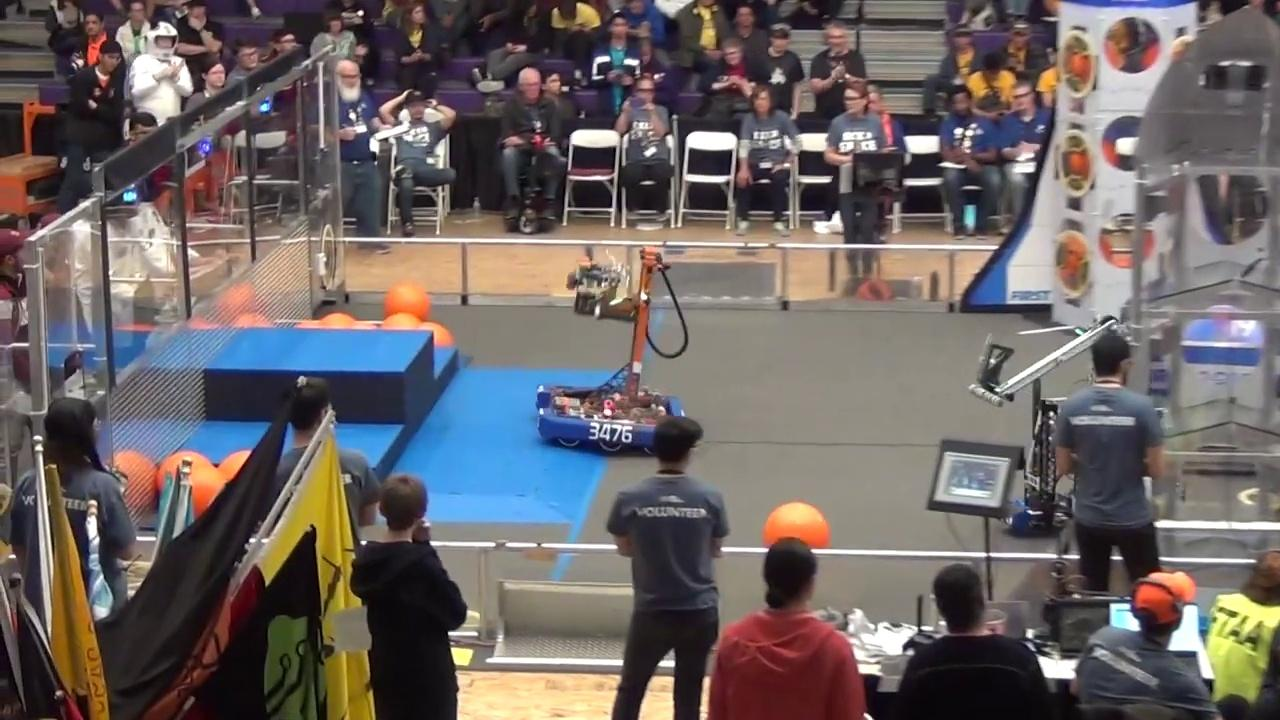robot: (530, 243, 692, 460)
